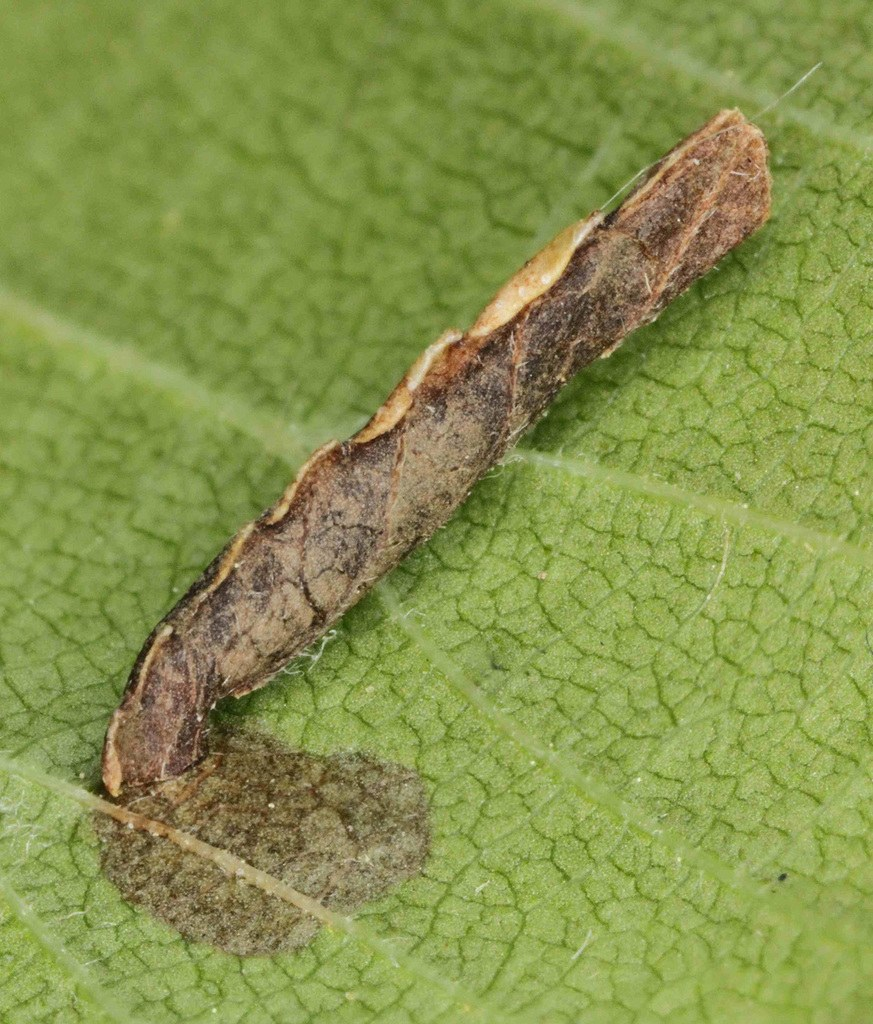insect: (102, 51, 831, 801)
